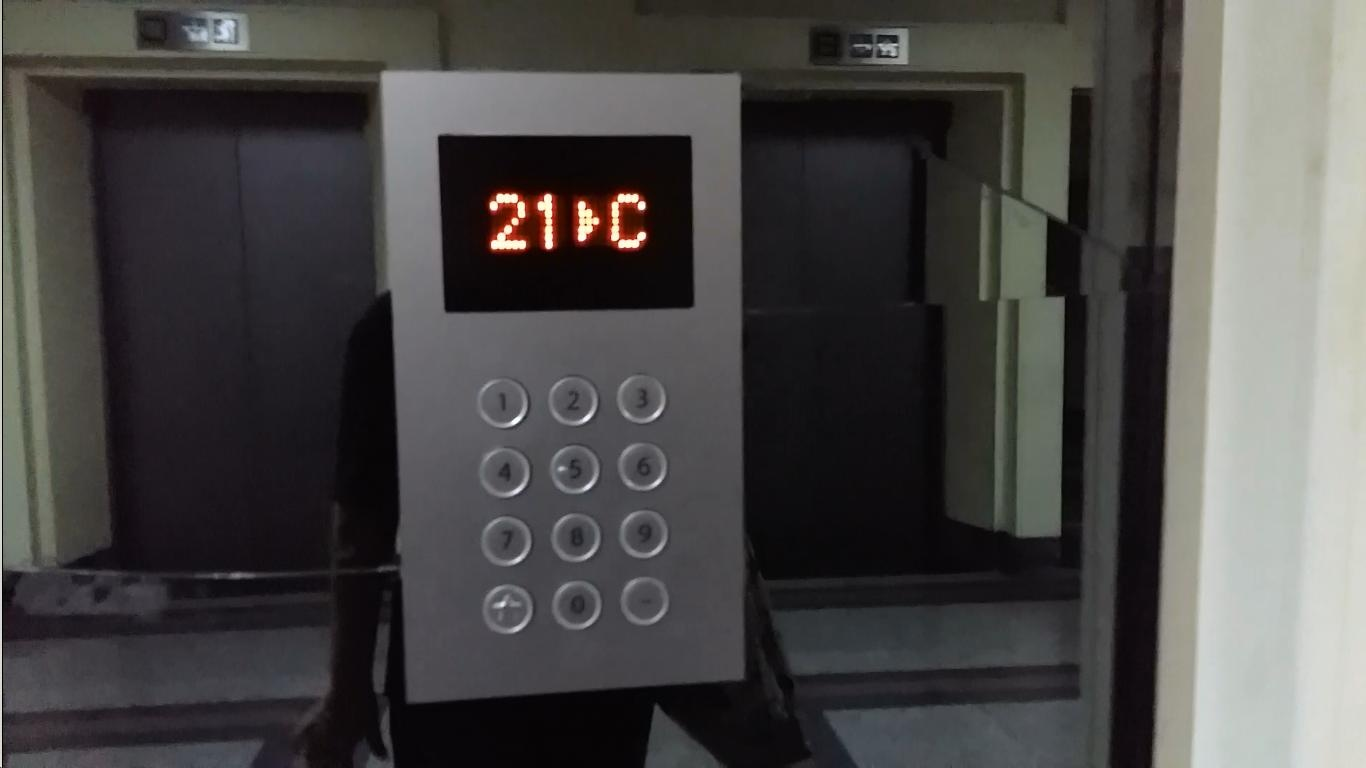-: (621, 574, 671, 627)
0: (550, 574, 606, 633)
1: (475, 377, 531, 430)
2: (548, 373, 601, 430)
3: (617, 373, 666, 425)
4: (479, 448, 534, 501)
5: (547, 439, 604, 500)
6: (614, 438, 670, 496)
7: (479, 513, 534, 566)
8: (549, 511, 601, 564)
9: (617, 507, 671, 564)
led: (434, 133, 697, 312)
s: (480, 579, 532, 638)
